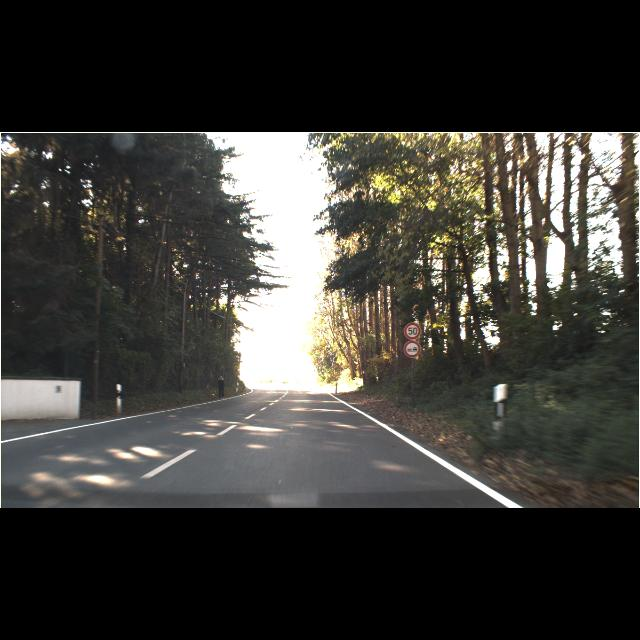prohibitory: (404, 322, 421, 340), (404, 341, 420, 357)
